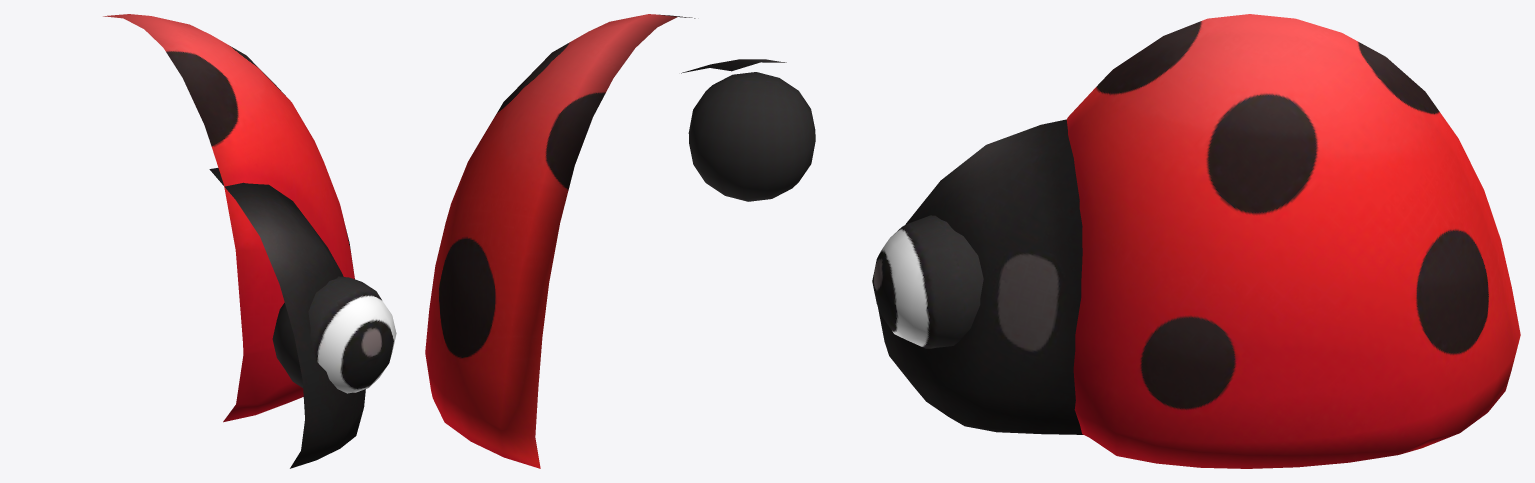
Rendered from ladybug_right.glb.
The picture shows the model from 3 angles, left to right: view 1: azimuth 30°, elevation 25°; view 2: azimuth 150°, elevation 25°; view 3: azimuth 270°, elevation 25°; orthographic projection. The views are drawn at different scales.
Visible parts, largest first — view 1: ladybug_right; view 2: ladybug_right; view 3: ladybug_right.
Boxes of the visible parts, x1,y1,x2,y2 form: ladybug_right: [103, 14, 396, 468]; ladybug_right: [425, 14, 815, 468]; ladybug_right: [872, 14, 1520, 468].
Size of the model in its own units: 0.3979 by 0.6685 by 1.04.
Materials: 1 (1 with a texture image).
